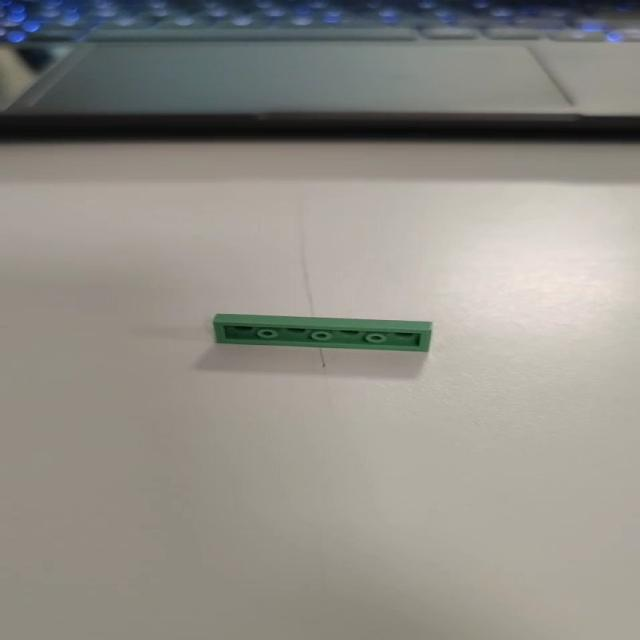C4x1x0: (194, 308, 460, 361)
C4x2x1: (638, 37, 640, 69)
